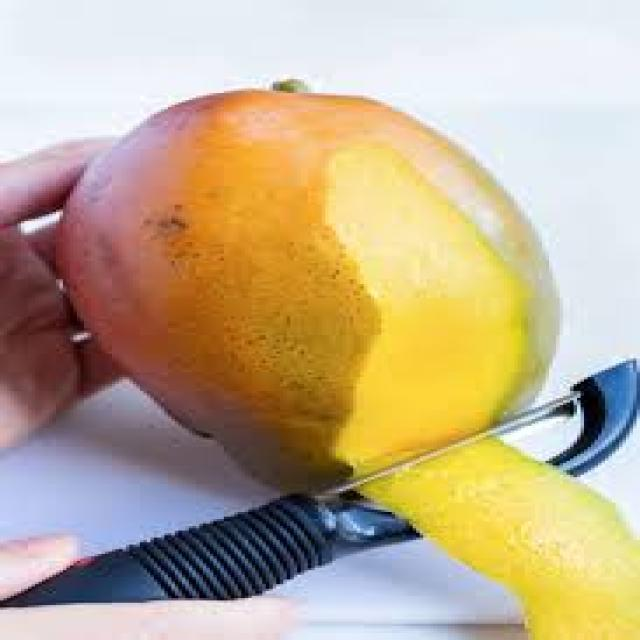Mango: (76, 78, 573, 492)
